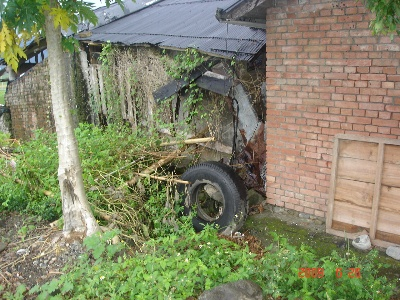tire: (176, 161, 249, 234)
